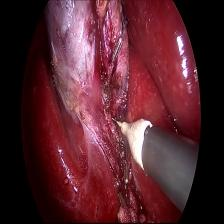Hook: (109, 109, 156, 174)
